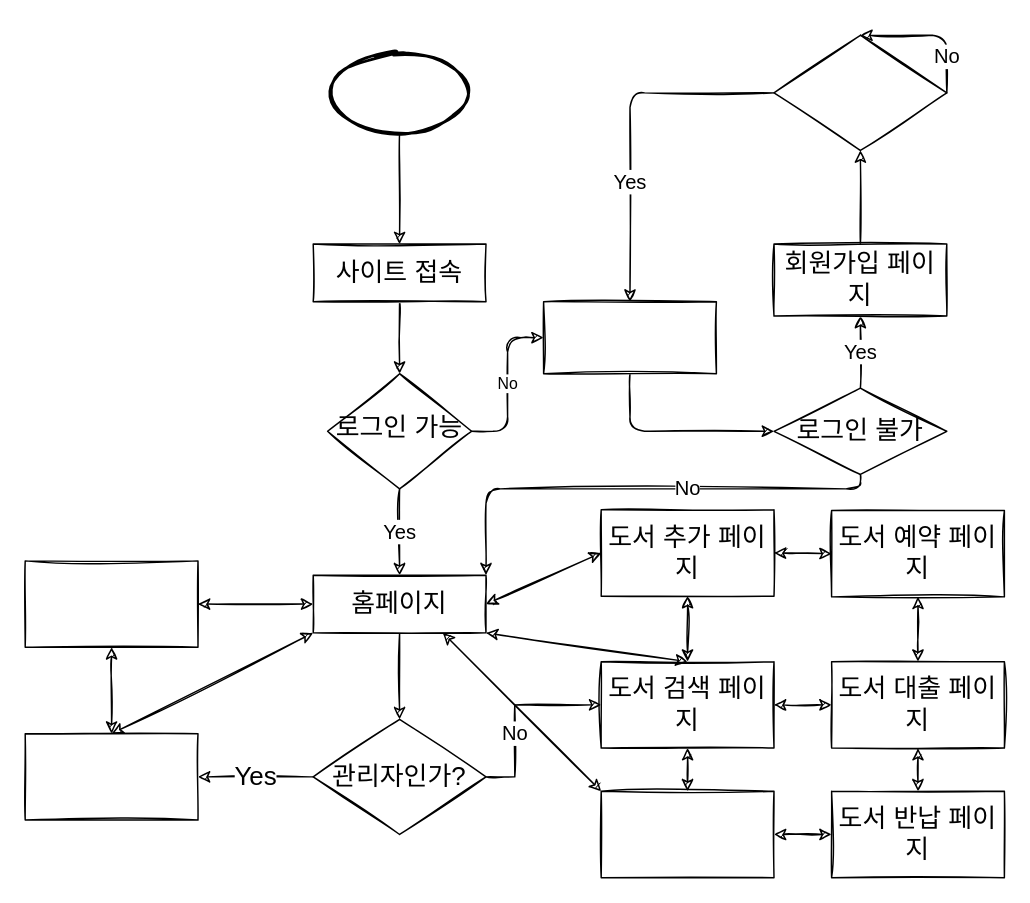
This 1030x903 diagram has some shape labels left out. The shapes that lost their labels are listed below. From the top down, each one's centre as x and y in pixels, then its label:
pixel 398 92: Start
pixel 860 92: 회원가입 가능
pixel 629 337: 로그인 페이지
pixel 111 603: 도서 삭제 페이지
pixel 111 776: 도서 수정 페이지
pixel 687 834: 도서 상세 페이지
